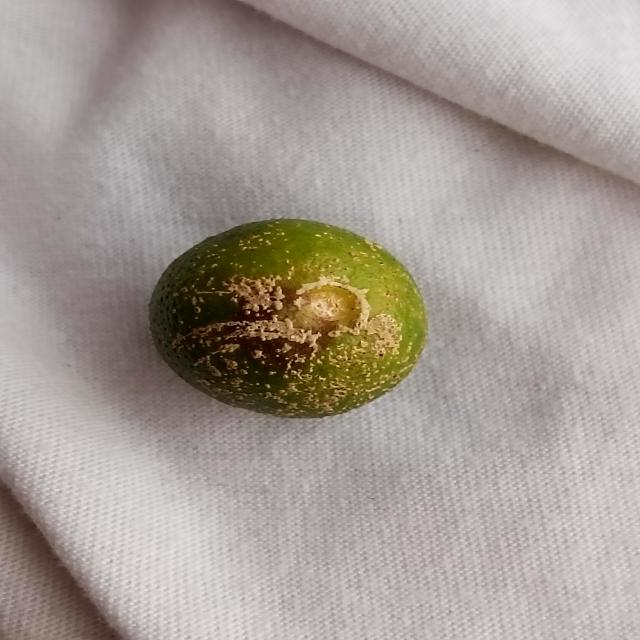scab: (145, 219, 416, 416)
